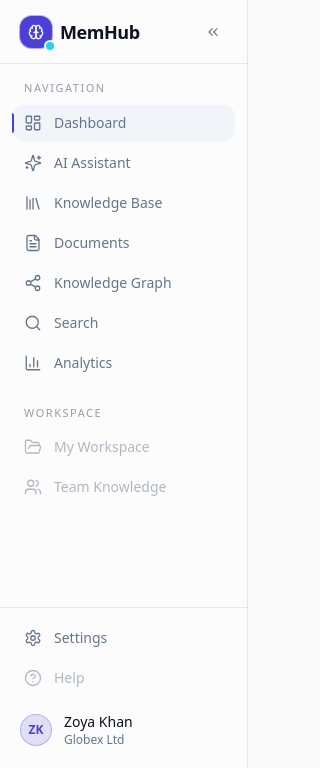
Sidebar user display + logout › opens the profile menu with a Logout item
Click the text "Zoya Khan" at (98, 722), box [64,712,133,731]
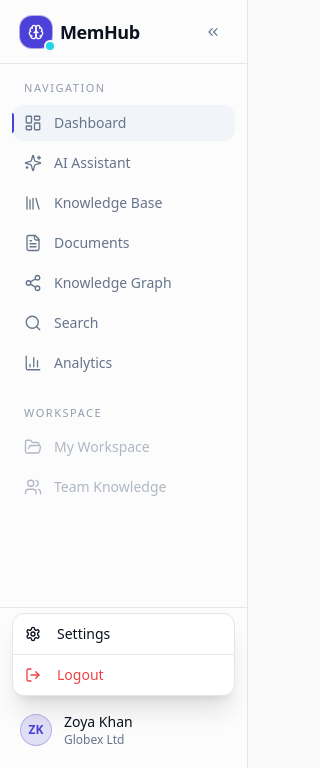
Now the text "Logout" is shown, box [25,665,104,684]
